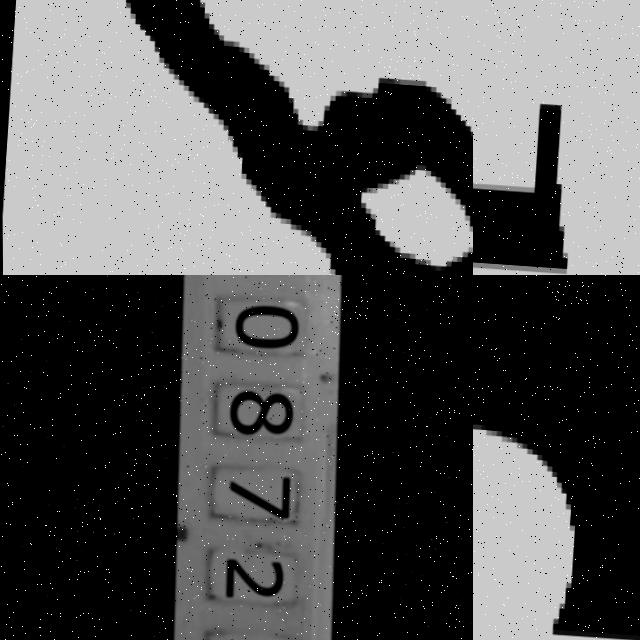0: (212, 279, 322, 364)
1: (473, 60, 582, 275)
2: (201, 535, 308, 616)
5: (199, 616, 301, 640)
7: (205, 451, 313, 534)
8: (210, 367, 313, 452)
R: (473, 275, 640, 640)
